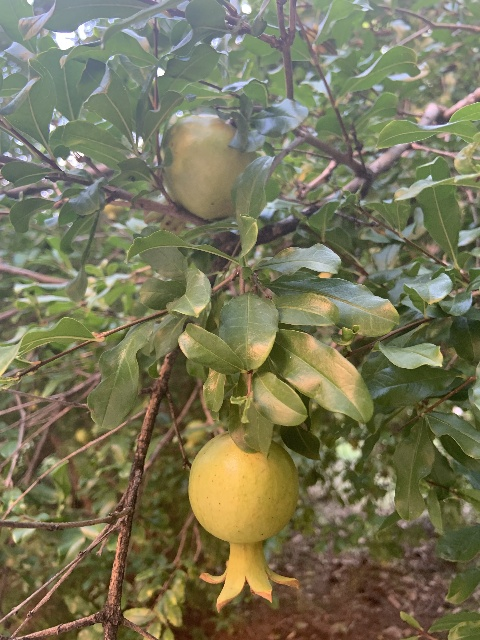mid-growth: (188, 431, 299, 613), (143, 113, 258, 237)
